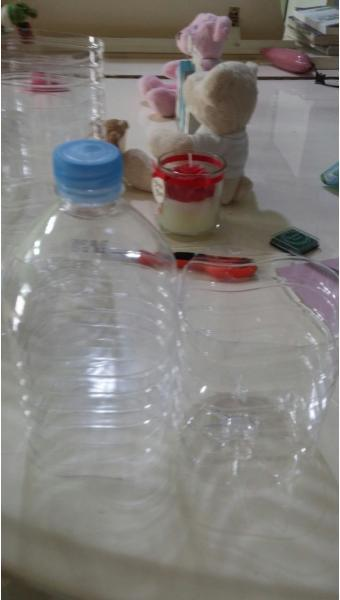bottle: (8, 142, 199, 554)
